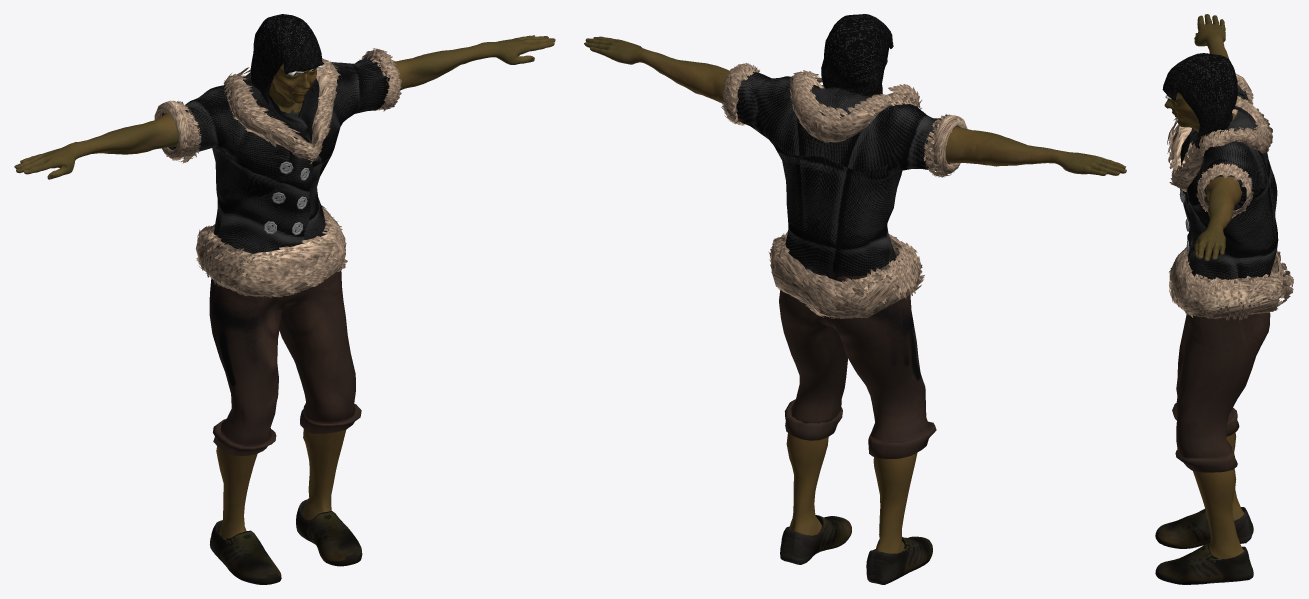
Rendered from RUSO.fbx.
3 renders of one model, left to right at view 1: azimuth 30°, elevation 25°; view 2: azimuth 150°, elevation 25°; view 3: azimuth 270°, elevation 25°, orthographic. The views are drawn at different scales.
Visible parts, largest first — view 1: ropa_bake, pelos_bake, cuerpo_bake, gorro_bake; view 2: ropa_bake, pelos_bake, cuerpo_bake, gorro_bake; view 3: ropa_bake, pelos_bake, cuerpo_bake, gorro_bake.
Boxes of the visible parts, <box> form: ropa_bake: <box>162,57,389,584</box>; pelos_bake: <box>154,48,401,297</box>; cuerpo_bake: <box>14,35,555,538</box>; gorro_bake: <box>250,14,324,103</box>; ropa_bake: <box>736,72,959,584</box>; pelos_bake: <box>721,63,967,318</box>; cuerpo_bake: <box>584,36,1126,569</box>; gorro_bake: <box>821,14,893,96</box>; ropa_bake: <box>1155,85,1278,584</box>; pelos_bake: <box>1167,74,1293,320</box>; cuerpo_bake: <box>1164,14,1244,559</box>; gorro_bake: <box>1162,53,1237,137</box>.
Bounding box in the file's own units: 160 × 153 × 38.32.
